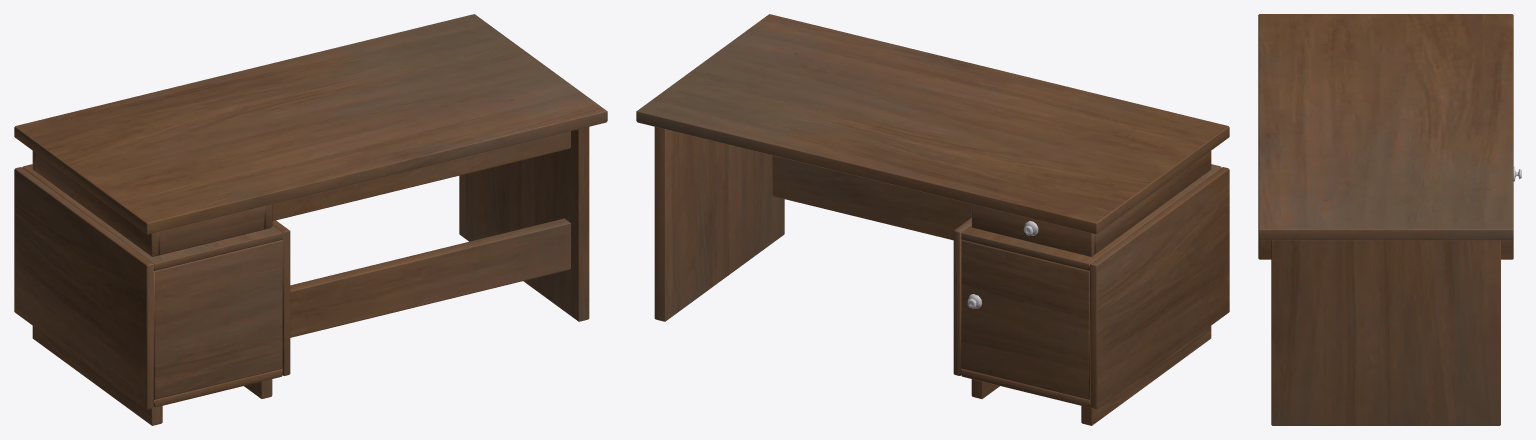
The model's file is wooden_desk_a.glb.
The picture shows the model from 3 angles, left to right: view 1: azimuth 30°, elevation 25°; view 2: azimuth 150°, elevation 25°; view 3: azimuth 270°, elevation 25°; orthographic projection. The views are drawn at different scales.
Visible parts, largest first — view 1: wooden_desk_a; view 2: wooden_desk_a; view 3: wooden_desk_a.
Part boxes in pixels (<box>): wooden_desk_a: <box>14,14,607,425</box>; wooden_desk_a: <box>636,14,1229,425</box>; wooden_desk_a: <box>1258,14,1521,425</box>.
Bounding box in the file's own units: 2 × 0.8751 × 1.03.
1 material, 1 textured.
